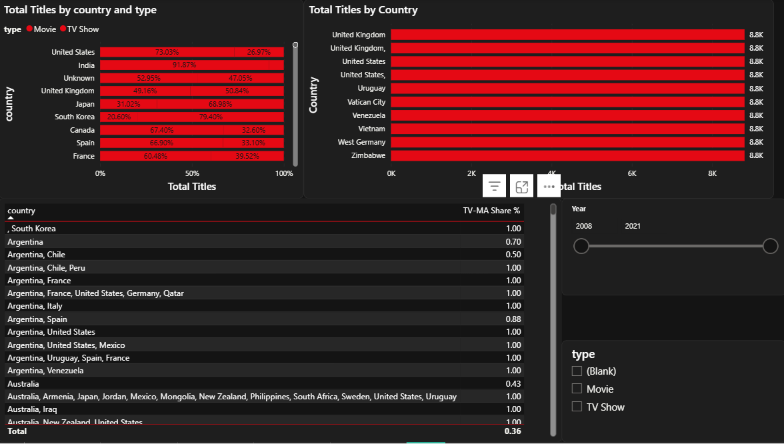

The dashboard page shown, as its layout file describes it:
{"tool":"powerbi","page":{"name":"Page 2","canvas":[1280,720],"ordinal":1},"visuals":[{"type":"hundredPercentStackedBarChart","fields":{"Category":["Fact_Titles.country"],"Y":["Fact_Titles.Total Titles"],"Series":["Fact_Titles.type"]},"box":[0,0,496.1,323.7],"z":0},{"type":"clusteredBarChart","fields":{"Category":["Bridge_Country.Country"],"Y":["Fact_Titles.Total Titles"]},"box":[496.1,0,764.5,323.7],"z":1},{"type":"tableEx","fields":{"Values":["Fact_Titles.country","Fact_Titles.TV-MA Share %"]},"box":[0,323.7,915.7,396.9],"z":2},{"type":"slicer","fields":{"Values":["Fact_Titles.type"]},"box":[915.7,554.7,364.3,165.9],"z":3},{"type":"slicer","fields":{"Values":["Dim_Date.Year"]},"box":[915.7,323.7,364.3,157.8],"z":4}]}

Visuals, with their boxes in screenshot pixels (x1, y1, x2, y2), scaled from the page's 1280x720 canvas onto the 784x444 screenshot:
hundredPercentStackedBarChart - Fact_Titles.country x Fact_Titles.Total Titles: l=0, t=0, r=304, b=200
clusteredBarChart - Bridge_Country.Country x Fact_Titles.Total Titles: l=304, t=0, r=772, b=200
tableEx - Fact_Titles.country x Fact_Titles.TV-MA Share %: l=0, t=200, r=561, b=443
slicer - Fact_Titles.type: l=561, t=342, r=783, b=443
slicer - Dim_Date.Year: l=561, t=200, r=783, b=297
